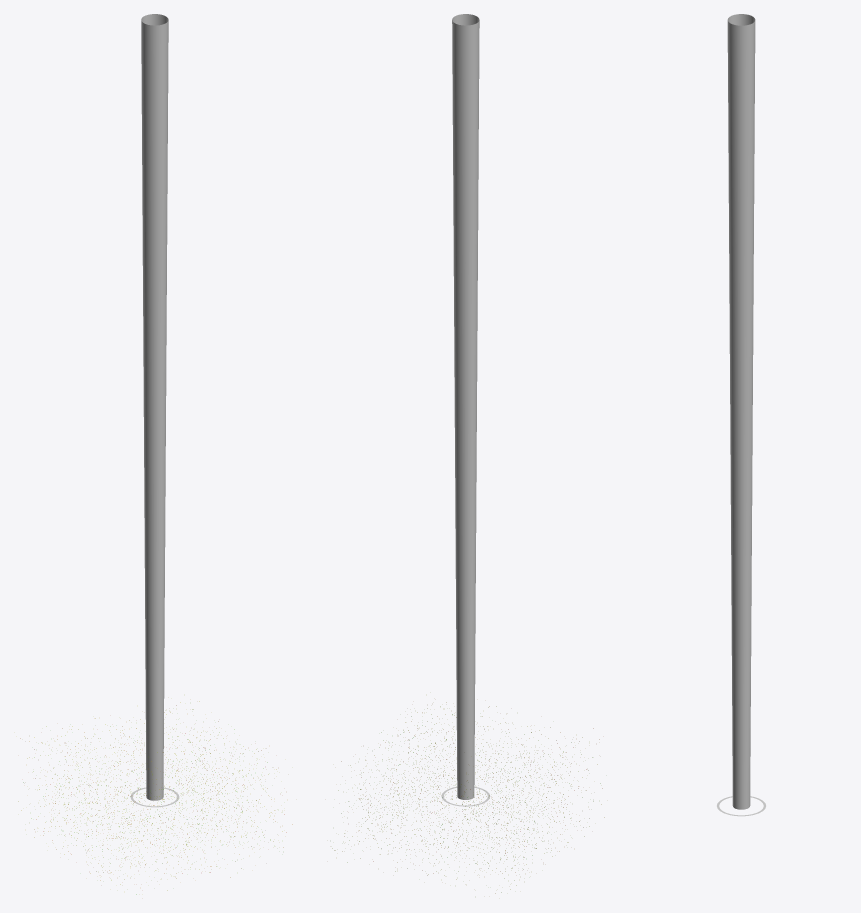
The model's file is props.glb.
3 renders of one model, left to right at view 1: azimuth 30°, elevation 25°; view 2: azimuth 150°, elevation 25°; view 3: azimuth 270°, elevation 25°, orthographic.
Visible parts, largest first — view 1: SM_Beacon, SM_RainStreaks; view 2: SM_Beacon, SM_RainStreaks; view 3: SM_Beacon.
Part boxes in pixels (bbox=[...]): SM_Beacon: bbox=[130, 14, 179, 807]; SM_RainStreaks: bbox=[18, 701, 292, 894]; SM_Beacon: bbox=[441, 14, 490, 806]; SM_RainStreaks: bbox=[332, 702, 604, 893]; SM_Beacon: bbox=[717, 14, 765, 816].
Size of the model in its own units: 34.03 by 149 by 34.
